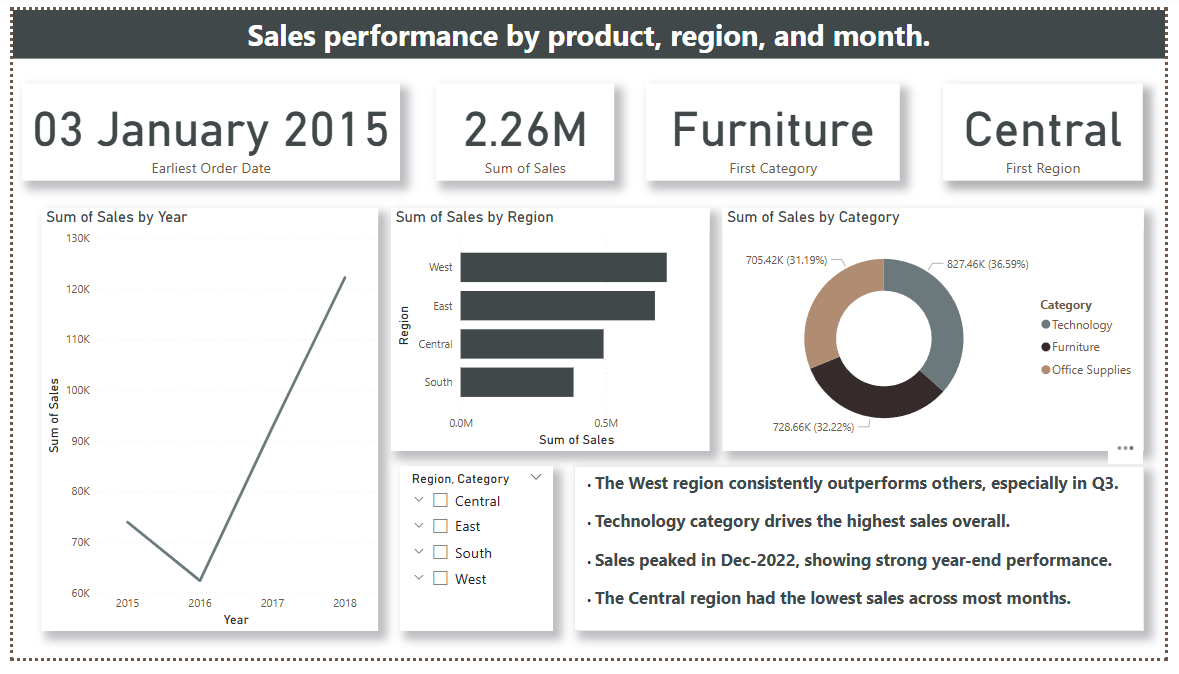

The dashboard page shown, as its layout file describes it:
{"tool":"powerbi","page":{"name":"Page 1","canvas":[1280,720],"ordinal":0},"visuals":[{"type":"lineChart","fields":{"Category":["train.Order Date.Variation.Date Hierarchy.Year","train.Order Date.Variation.Date Hierarchy.Quarter","train.Order Date.Variation.Date Hierarchy.Month","train.Order Date.Variation.Date Hierarchy.Day"],"Y":["Sum(train.Sales)"]},"box":[32,220,374,470],"z":0},{"type":"textbox","box":[0,0,1280,54],"z":1000},{"type":"card","fields":{"Values":["Sum(train.Sales)"]},"box":[470,82,198,108],"z":2000},{"type":"card","fields":{"Values":["Min(train.Order Date)"]},"box":[10,82,420,108],"z":3000},{"type":"card","fields":{"Values":["Min(train.Category)"]},"box":[704,82,282,108],"z":4000},{"type":"card","fields":{"Values":["Min(train.Region)"]},"box":[1034,82,222,108],"z":5000},{"type":"barChart","fields":{"Category":["train.Region"],"Y":["Sum(train.Sales)"]},"box":[420,220,354,270],"z":5001},{"type":"donutChart","fields":{"Category":["train.Category"],"Y":["Sum(train.Sales)"]},"box":[788,220,468,270],"z":5002},{"type":"slicer","fields":{"Values":["train.Region","train.Category"]},"box":[430,506.7,170,183.3],"z":5003},{"type":"textbox","box":[623.3,506.7,633.3,183.3],"z":5005}]}

Visuals, with their boxes in screenshot pixels (x1, y1, x2, y2), scaled from the page's 1280x720 canvas onto the 1179x674 screenshot:
lineChart - train.Order Date.Variation.Date Hierarchy.Year x train.Order Date.Variation.Date Hierarchy.Quarter: [29, 206, 374, 646]
textbox: [0, 0, 1178, 51]
card - Sum(train.Sales): [433, 77, 615, 178]
card - Min(train.Order Date): [9, 77, 396, 178]
card - Min(train.Category): [648, 77, 908, 178]
card - Min(train.Region): [952, 77, 1157, 178]
barChart - train.Region x Sum(train.Sales): [387, 206, 713, 459]
donutChart - train.Category x Sum(train.Sales): [726, 206, 1157, 459]
slicer - train.Region x train.Category: [396, 474, 553, 646]
textbox: [574, 474, 1157, 646]
